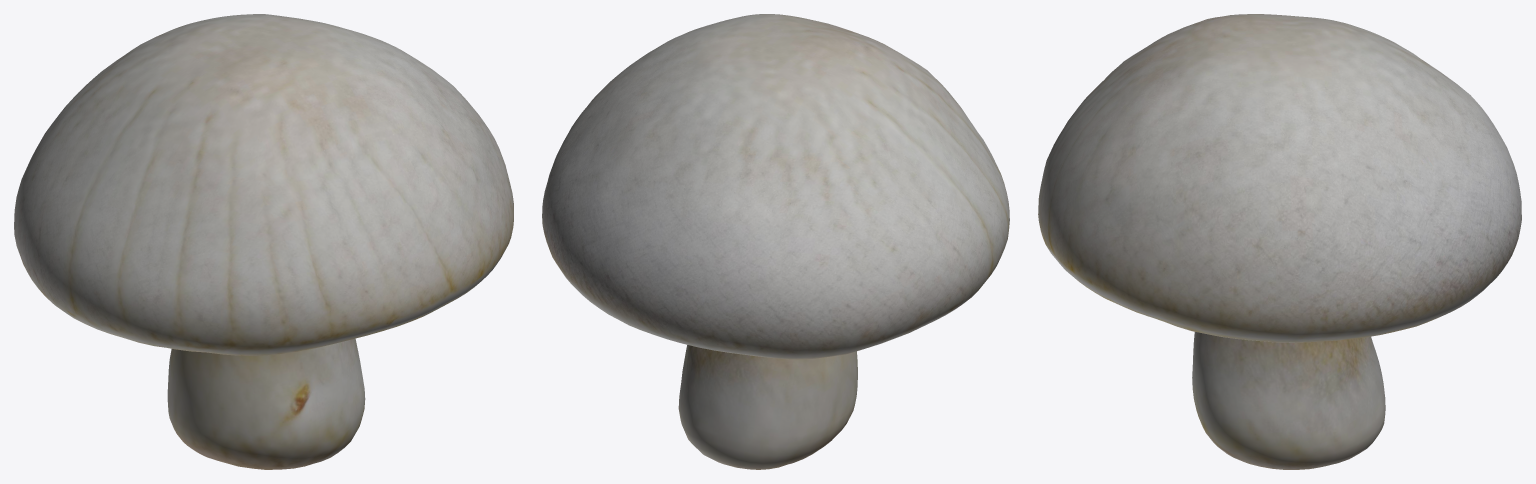
File: Champi.fbx
3 renders of one model, left to right at view 1: azimuth 30°, elevation 25°; view 2: azimuth 150°, elevation 25°; view 3: azimuth 270°, elevation 25°, orthographic. The views are drawn at different scales.
Visible parts, largest first — view 1: mesh; view 2: mesh; view 3: mesh.
Boxes of the visible parts, x1=… form: mesh: x1=14, y1=14, x2=513, y2=469; mesh: x1=542, y1=14, x2=1009, y2=469; mesh: x1=1038, y1=14, x2=1521, y2=469.
Bounding box in the file's own units: 99.83 × 93.28 × 99.87.
